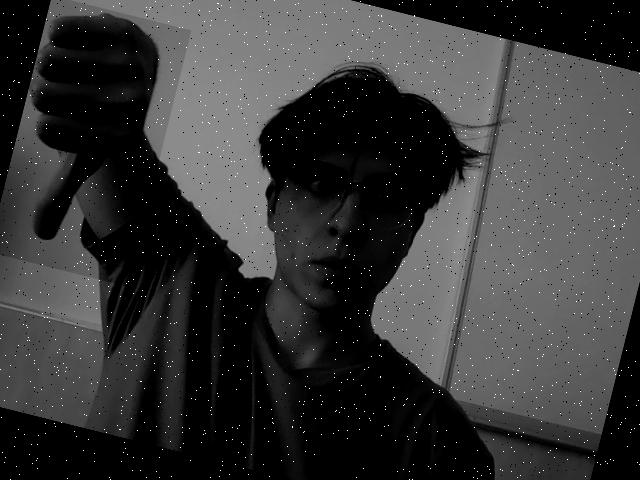bad: (0, 0, 190, 286)
